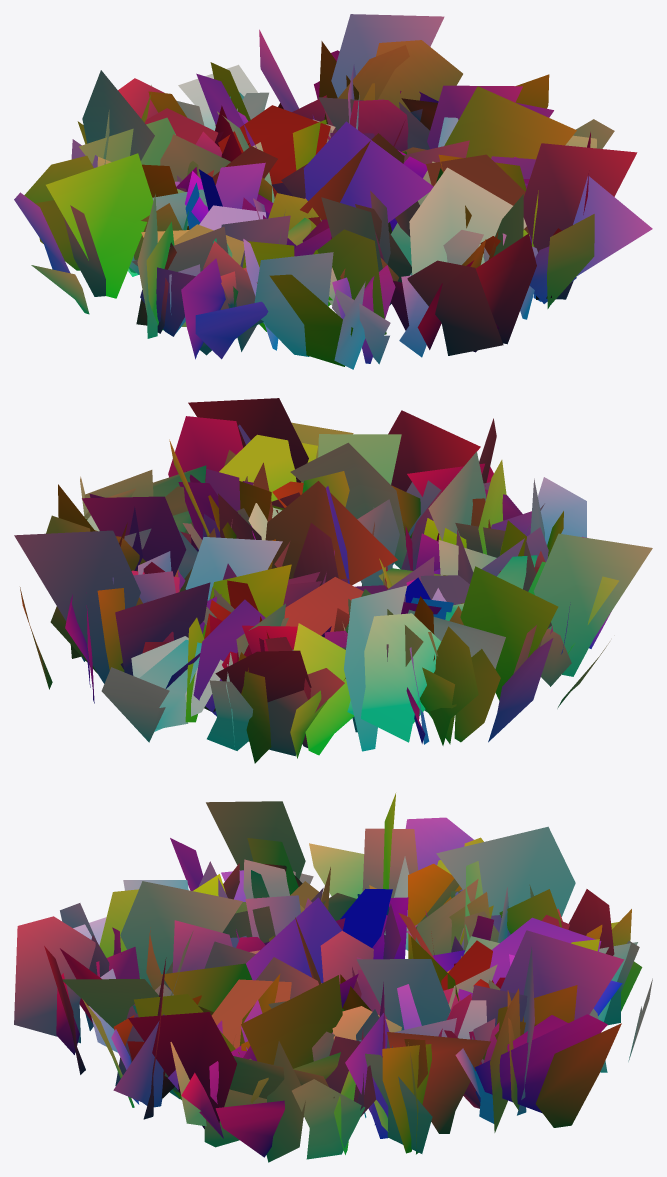
The model's file is Grass_Clumps_rbojr_High_rbojr_VarA_LOD1.fbx.
3 renders of one model, top to bottom at view 1: azimuth 30°, elevation 25°; view 2: azimuth 150°, elevation 25°; view 3: azimuth 270°, elevation 25°, orthographic. The views are drawn at different scales.
Visible parts, largest first — view 1: _fbf3_VarA_LOD1; view 2: _fbf3_VarA_LOD1; view 3: _fbf3_VarA_LOD1.
Part boxes in pixels (left/top/right/bottom): _fbf3_VarA_LOD1: left=14, top=14, right=652, bottom=369; _fbf3_VarA_LOD1: left=14, top=398, right=652, bottom=763; _fbf3_VarA_LOD1: left=14, top=793, right=652, bottom=1162.
Size of the model in its own units: 85.45 by 24.38 by 85.27.
